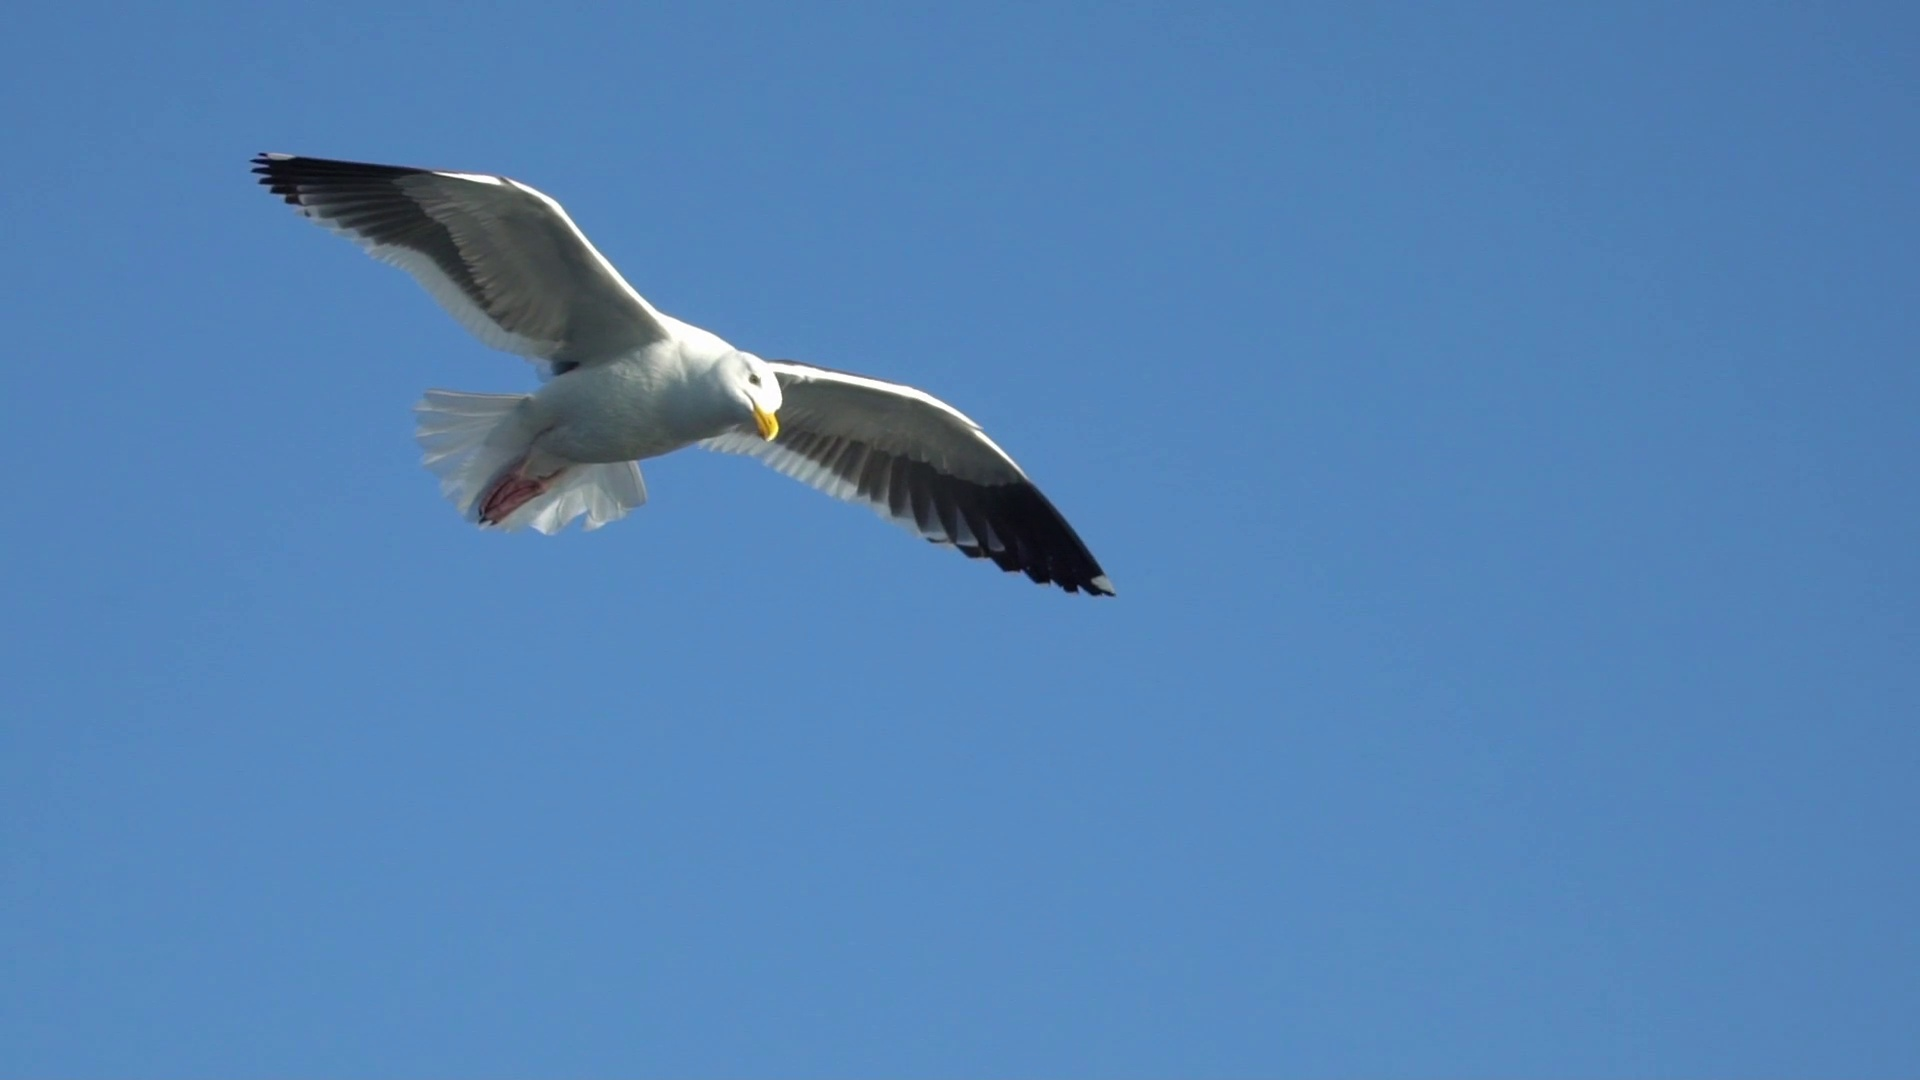bird: (244, 142, 1112, 601)
